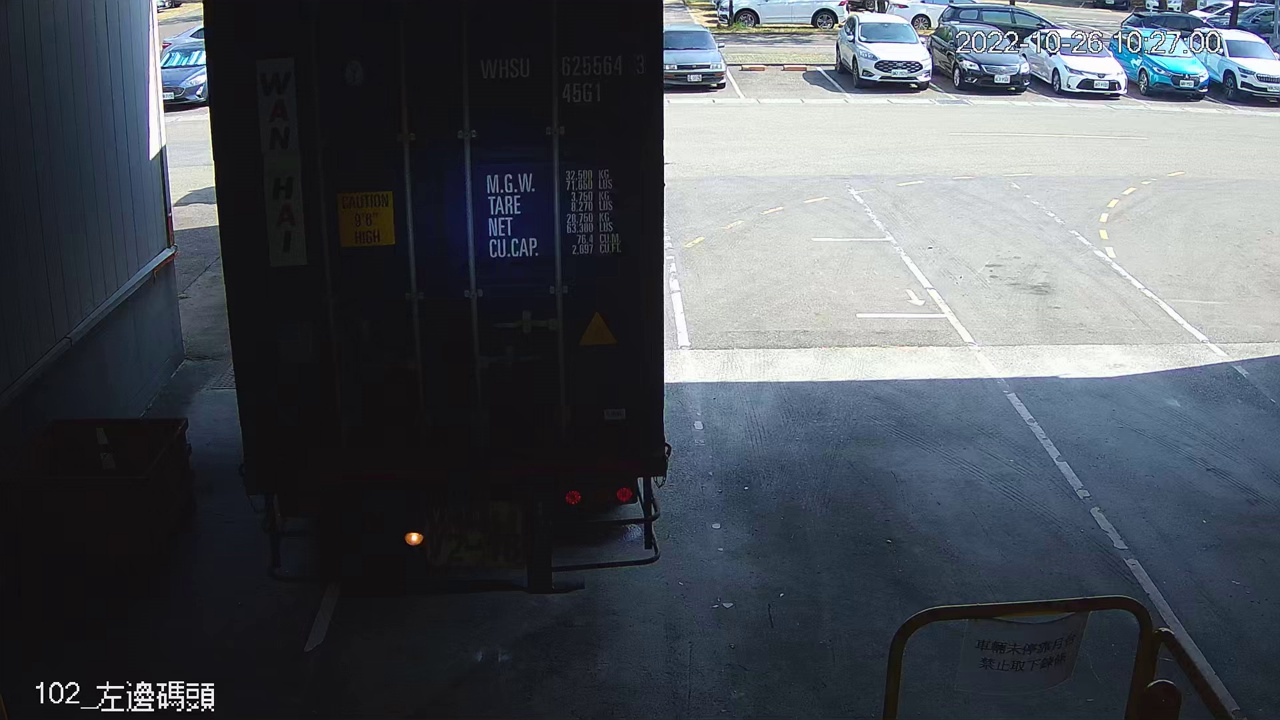container: (469, 46, 654, 111)
